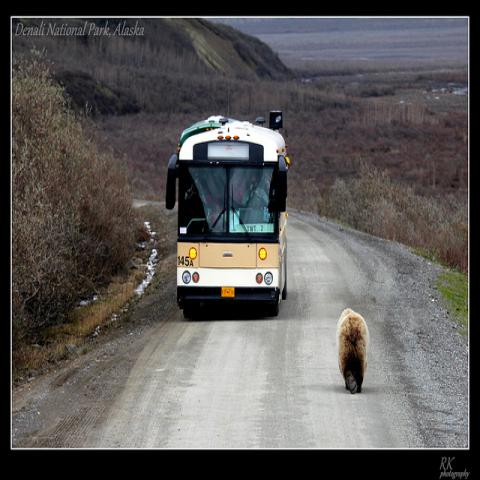bus: (165, 114, 290, 324)
